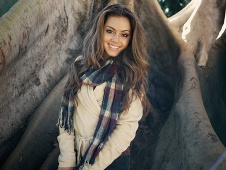female: (94, 6, 134, 64)
